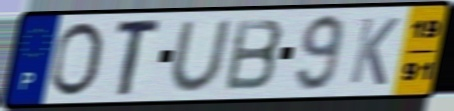9: (293, 12, 347, 94)
B: (222, 17, 287, 93)
K: (346, 15, 402, 88)
O: (46, 20, 106, 99)
T: (113, 16, 165, 99)
U: (167, 17, 234, 94)
